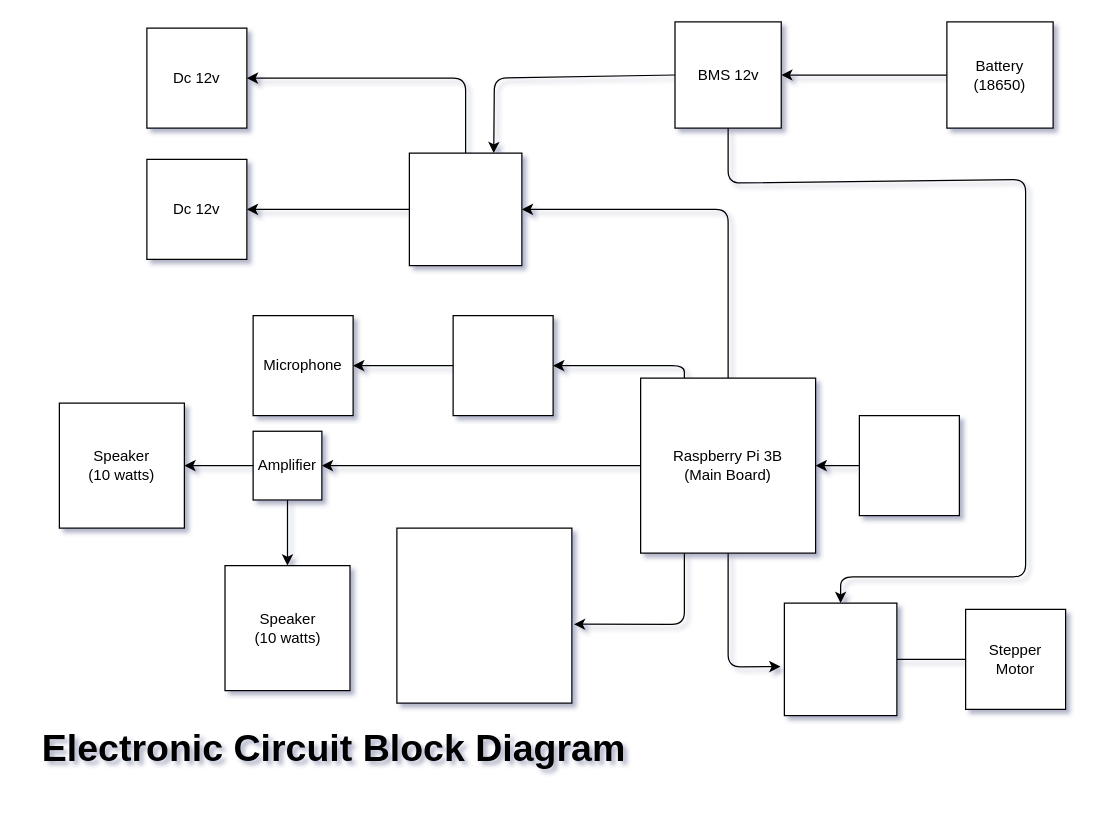
This 1105x815 diagram has some shape labels left out. The shapes that lost their labels are listed below. From the top down, each one's centre as x and y in pixels, then its label:
At pixel 465 209: "Ln298N (Motor Diver)".
At pixel 502 365: "Webcam".
At pixel 908 465: "Power Bank (30,000 mAh)".
At pixel 484 615: "Monitor".
At pixel 840 659: "Ln298N (Motor Diagram)".
